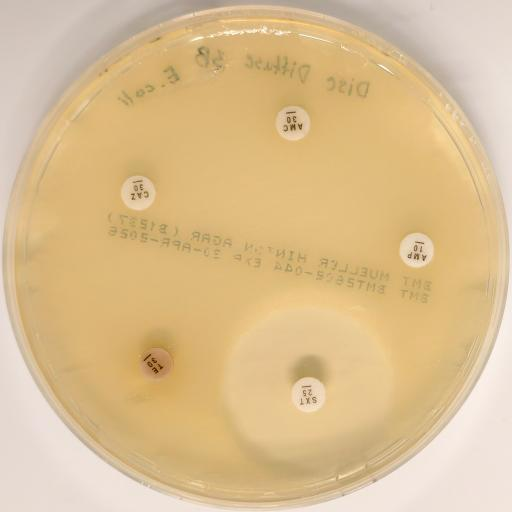disc: (275, 105, 311, 141), (138, 347, 174, 383), (121, 175, 155, 211), (399, 232, 433, 268), (292, 377, 326, 411)
